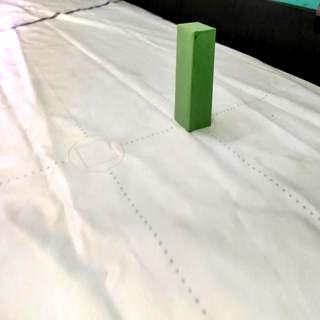greenbox: (173, 20, 218, 134)
